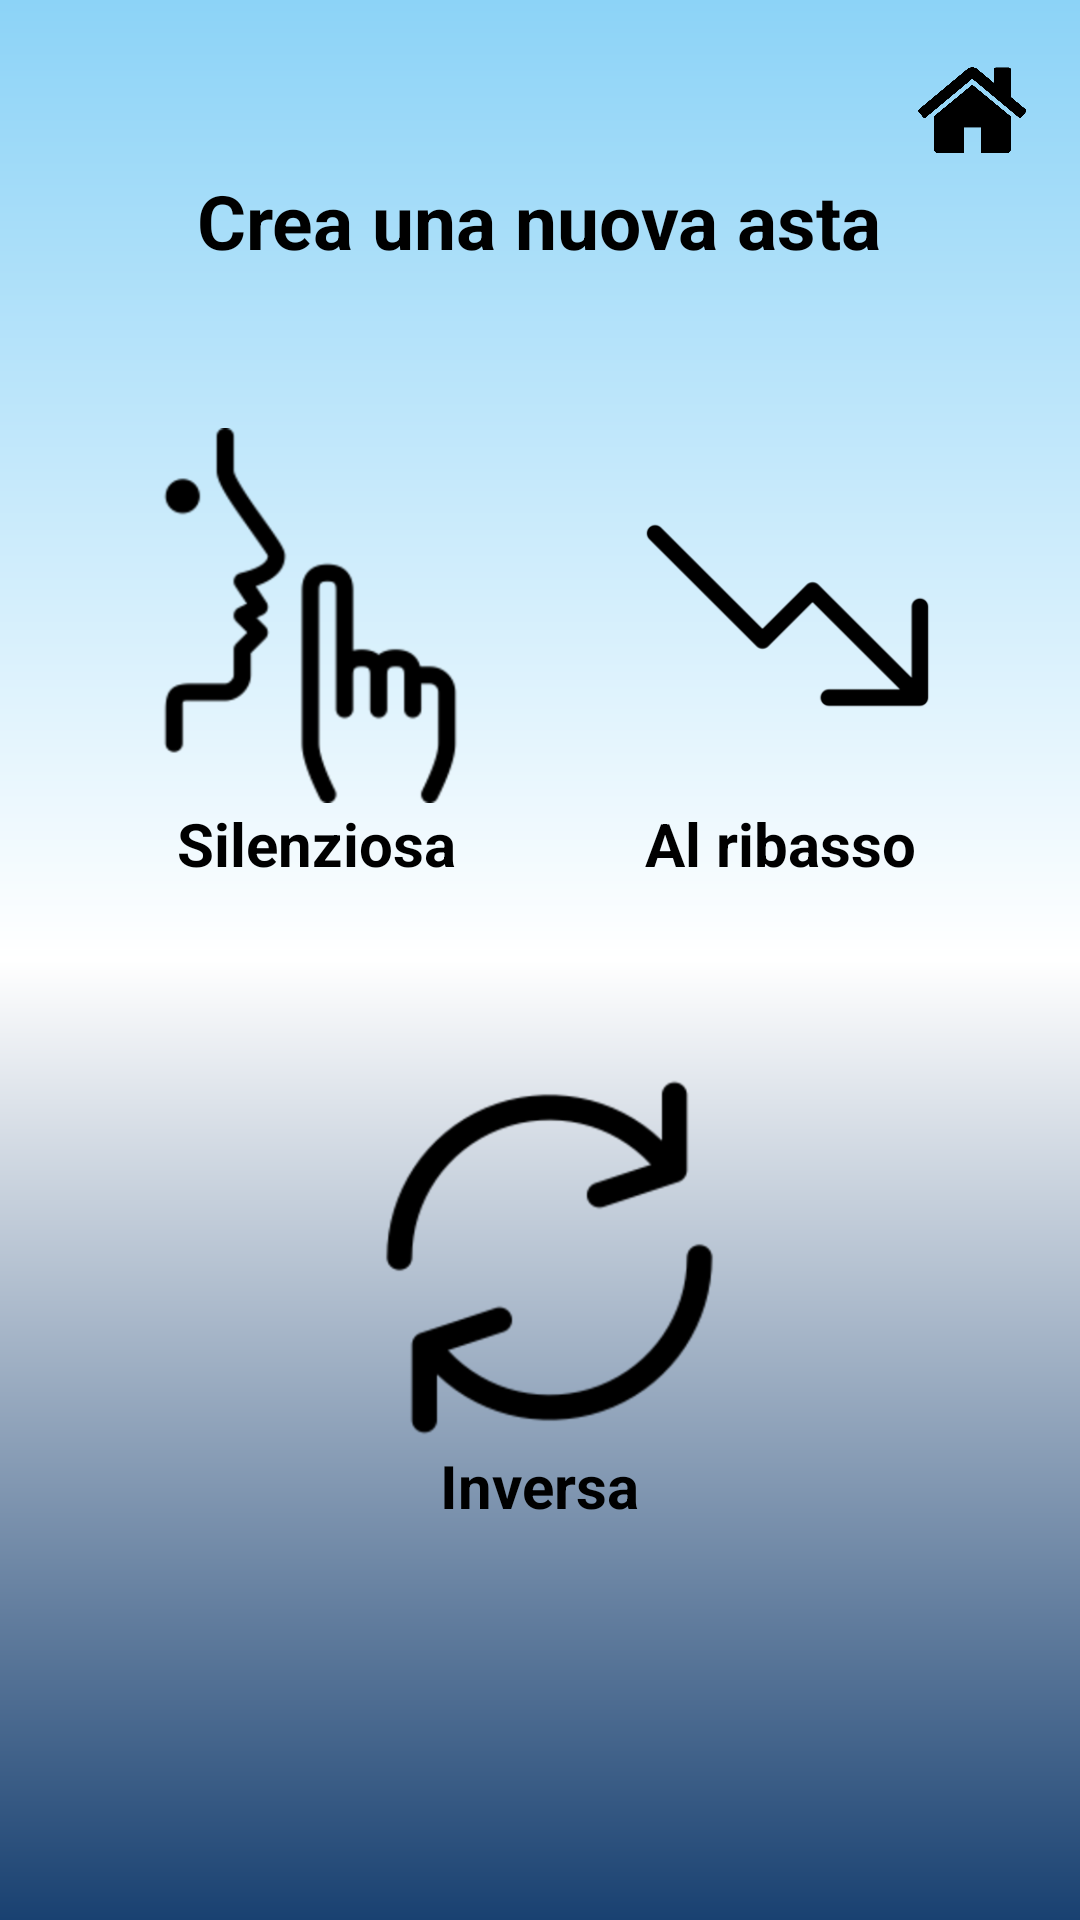

Icon click points for this 1080×1920 phone screenshot, format point (x, y):
home: point (972, 110)
